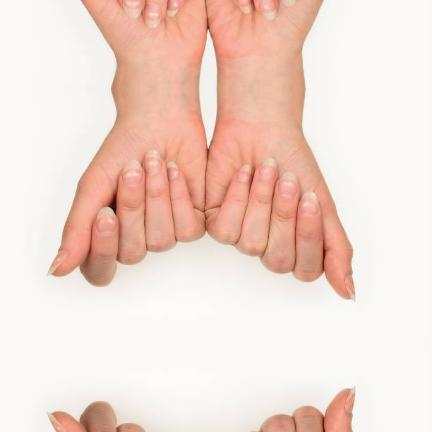Nail: (96, 206, 116, 234), (279, 170, 298, 197), (123, 159, 142, 186), (299, 191, 319, 216), (48, 250, 68, 275), (145, 149, 161, 174), (145, 2, 161, 27), (259, 157, 277, 179), (48, 412, 67, 432), (259, 0, 277, 19), (123, 0, 142, 17), (346, 274, 356, 302), (237, 163, 251, 183), (346, 386, 356, 413), (167, 161, 179, 179), (237, 0, 251, 13), (167, 0, 179, 15), (282, 0, 297, 6)
